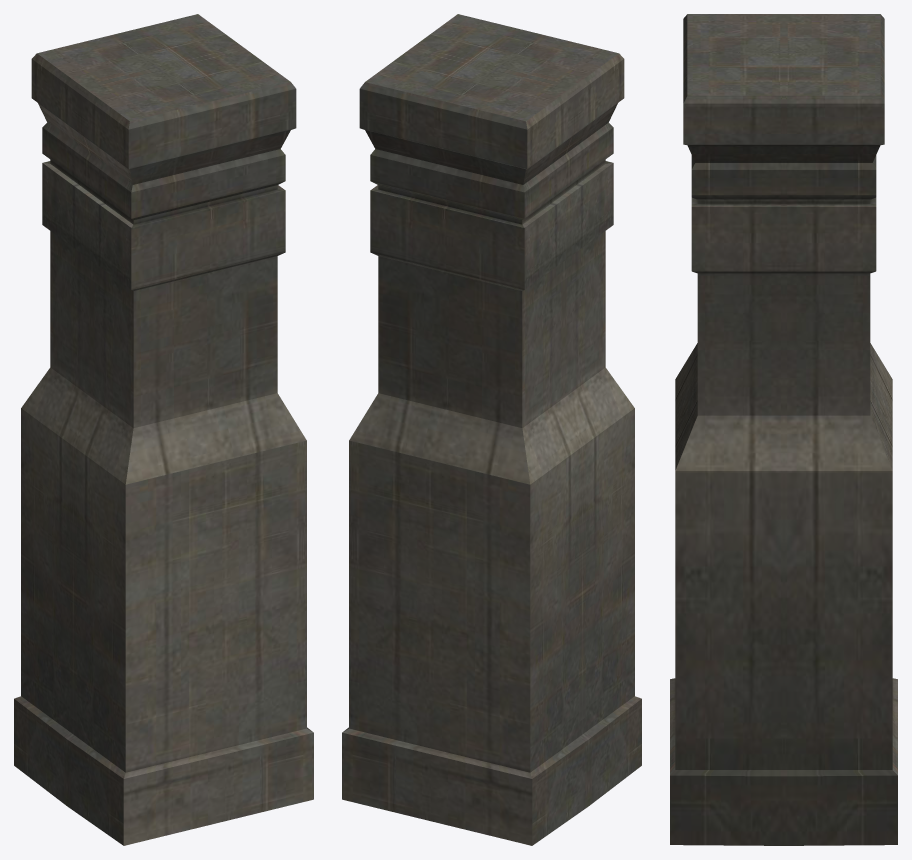
File: Bridge_Short_Piller.fbx
3 views of the same model, side by side, from view 1: azimuth 30°, elevation 25°; view 2: azimuth 150°, elevation 25°; view 3: azimuth 270°, elevation 25° (orthographic). The views are drawn at different scales.
Visible parts, largest first — view 1: Cube.002; view 2: Cube.002; view 3: Cube.002.
Boxes of the visible parts, bbox=[...] form: Cube.002: bbox=[14, 14, 313, 845]; Cube.002: bbox=[342, 14, 641, 845]; Cube.002: bbox=[670, 14, 897, 845].
Size of the model in its own units: 71.57 by 252 by 70.2.
